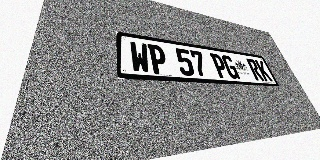5: (175, 48, 196, 76)
7: (189, 50, 209, 77)
G: (221, 55, 241, 79)
K: (254, 60, 273, 81)
P: (147, 44, 169, 75), (210, 53, 230, 78)
R: (246, 58, 265, 81)
W: (129, 41, 151, 73)
